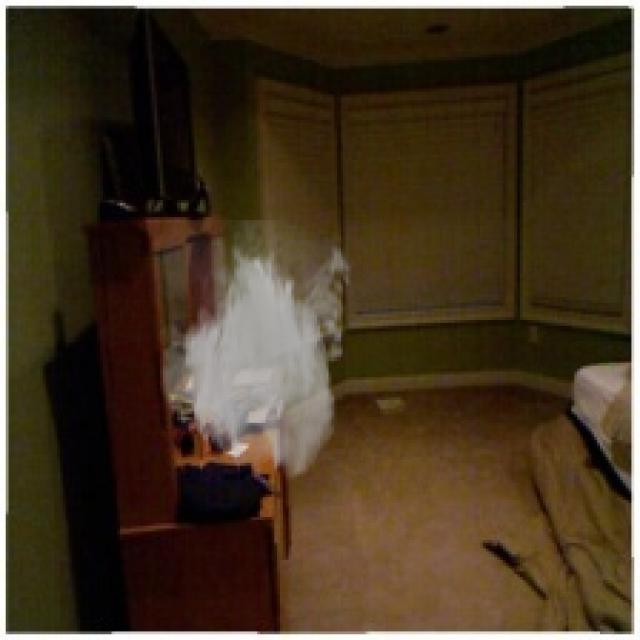Smoke: (154, 220, 357, 483)
